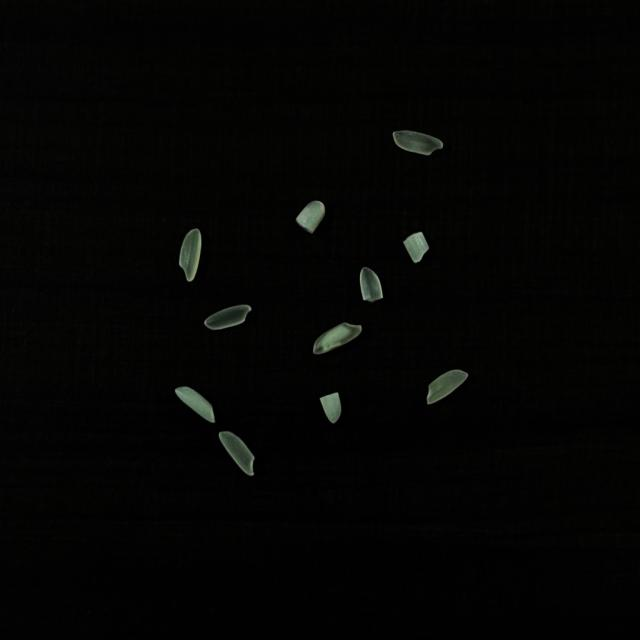Broken: (295, 200, 326, 234), (403, 232, 429, 264), (360, 267, 383, 303), (319, 392, 342, 424)
Full: (219, 431, 255, 476), (313, 322, 362, 354), (426, 368, 469, 404), (175, 386, 215, 423), (392, 130, 443, 156), (204, 304, 252, 330), (179, 228, 202, 282)
